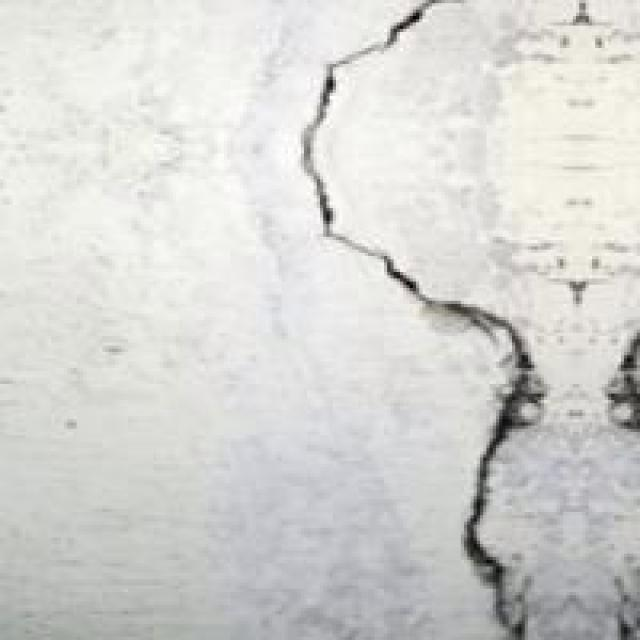crack: (292, 0, 566, 640)
